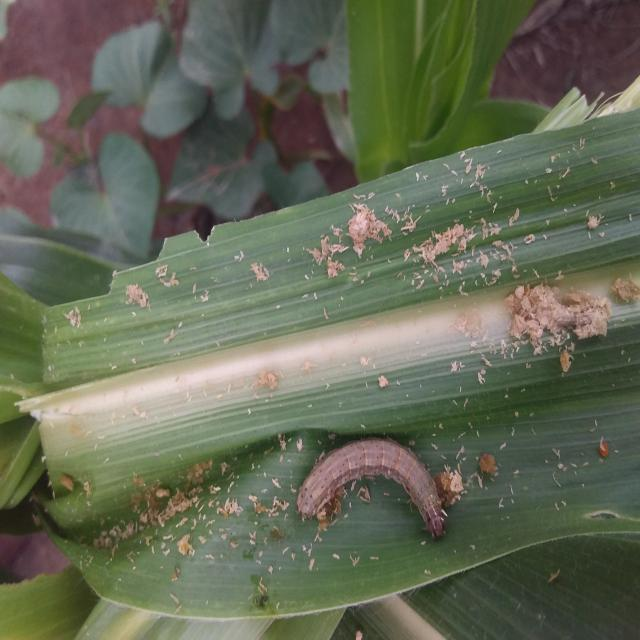yellow-stem-borer-larva: (275, 424, 451, 541)
